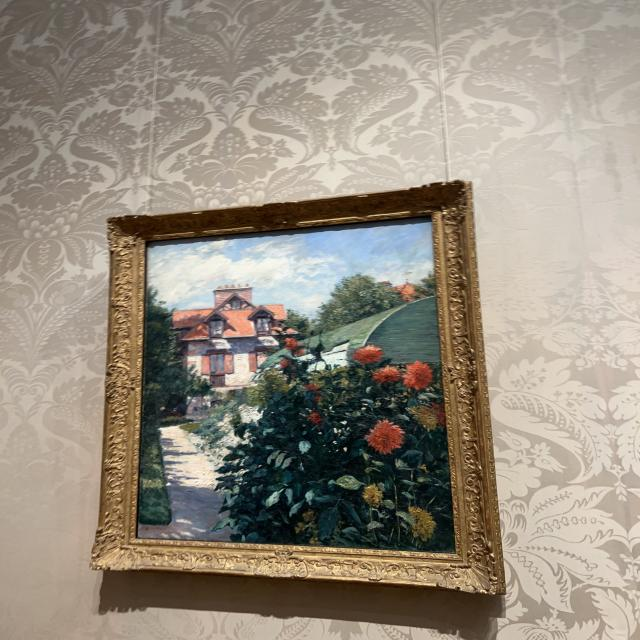summer: (144, 224, 451, 546)
